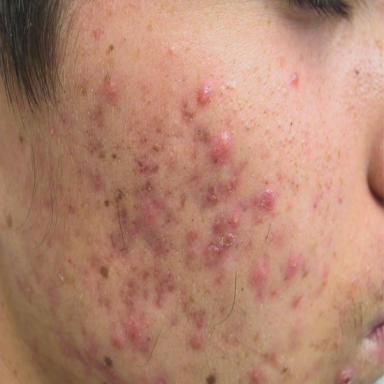acne: (204, 213, 239, 265), (211, 129, 230, 161), (250, 257, 269, 285), (124, 316, 141, 341), (105, 75, 121, 98), (287, 254, 302, 276), (261, 188, 275, 210), (336, 367, 354, 383), (197, 85, 211, 105), (112, 329, 126, 349), (225, 177, 238, 196), (250, 368, 265, 383), (206, 187, 218, 205), (191, 330, 202, 348), (195, 311, 205, 330), (289, 72, 299, 88)
